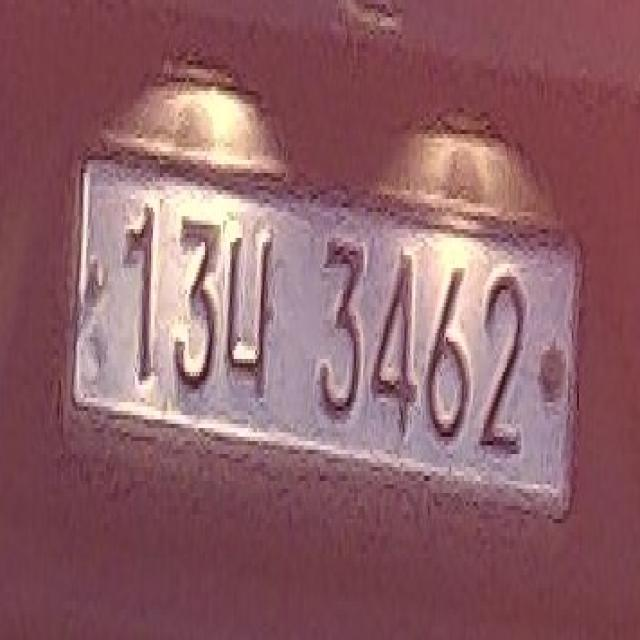1: (117, 190, 165, 394)
2: (474, 255, 528, 471)
3: (309, 225, 367, 424), (169, 203, 221, 394)
4: (368, 246, 422, 449)
6: (424, 251, 475, 458)
license_plate: (63, 130, 588, 549)
na: (225, 220, 280, 407)
